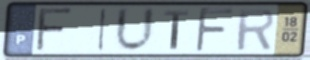F: (33, 7, 77, 54), (193, 6, 236, 54)
I: (96, 7, 109, 53)
R: (235, 8, 277, 53)
T: (162, 9, 191, 51)
U: (113, 5, 157, 55)
